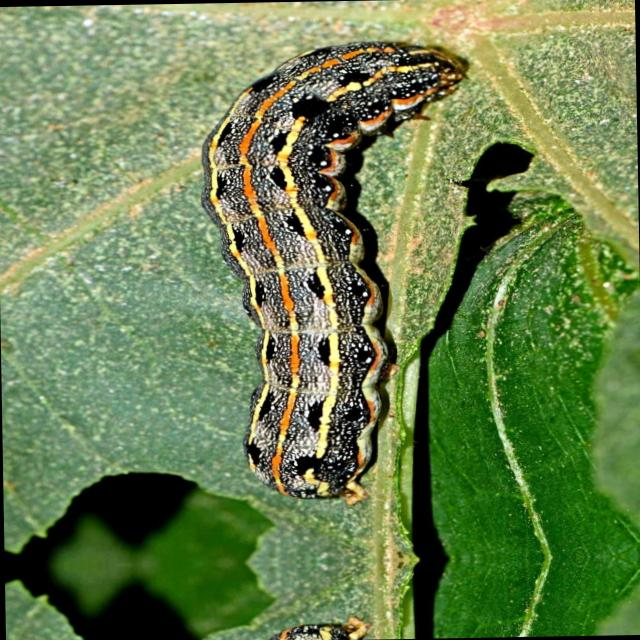Armyworm: (186, 28, 474, 513)
Armyworm_damage: (7, 466, 272, 640)
